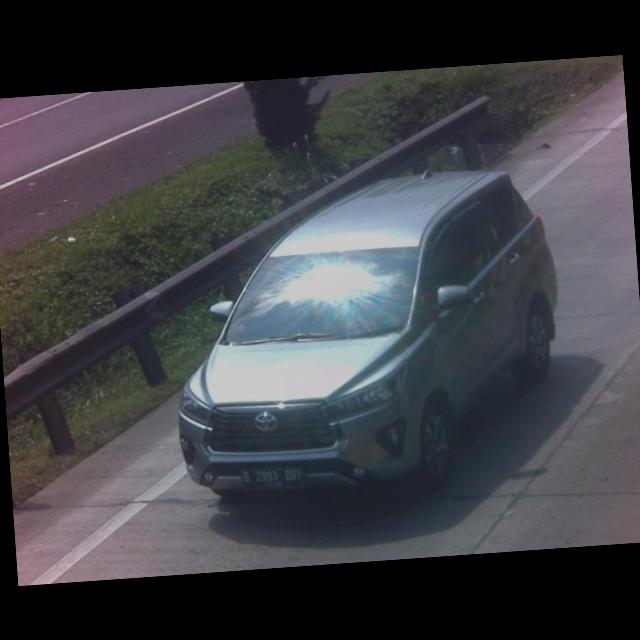plate: (241, 465, 306, 491)
